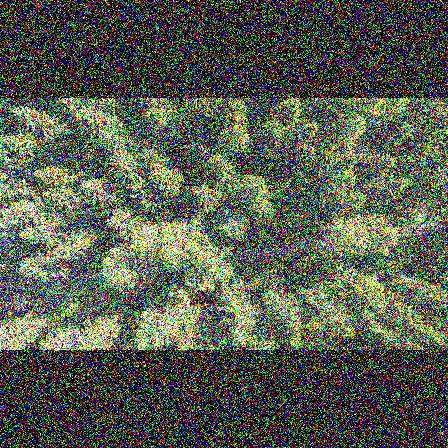Sick: (132, 182, 153, 204)
